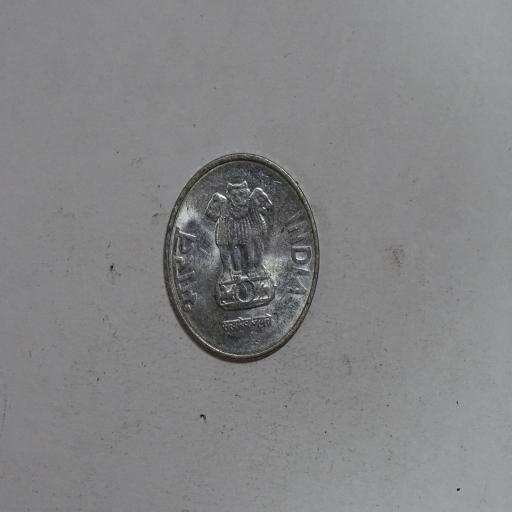rupee2: (157, 154, 326, 372)
